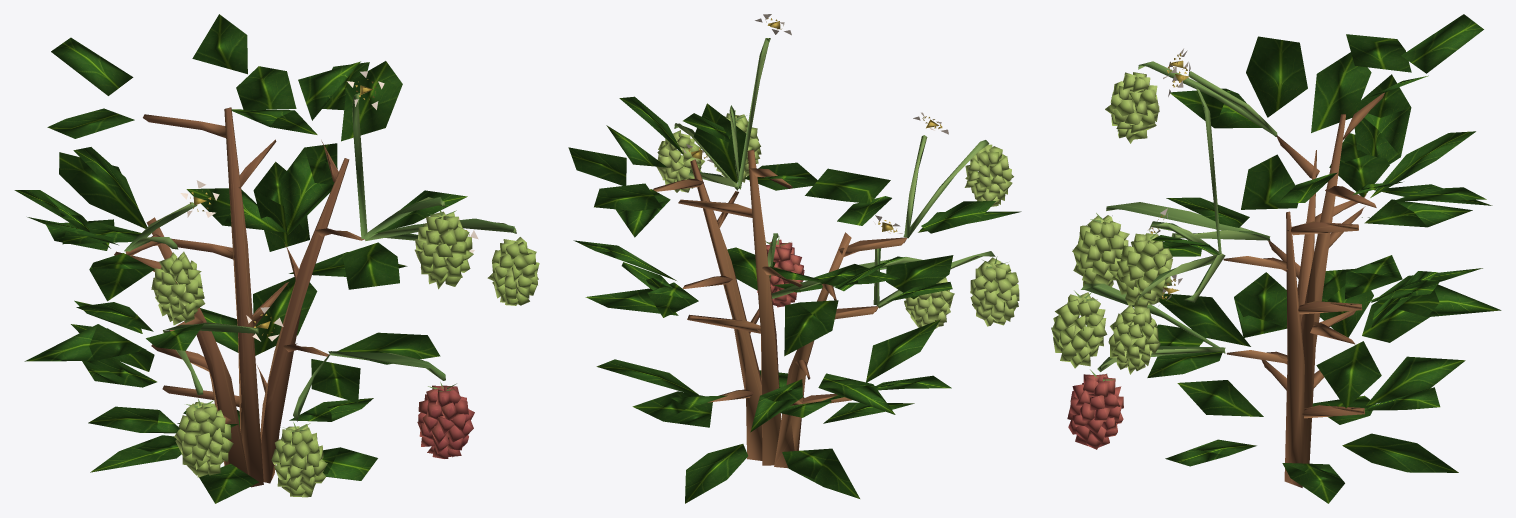
File: NP_Blackberry_Flowering_LOD1.fbx
3 renders of one model, left to right at view 1: azimuth 30°, elevation 25°; view 2: azimuth 150°, elevation 25°; view 3: azimuth 270°, elevation 25°, orthographic. The views are drawn at different scales.
Parts seen in each view (by area): view 1: NP_Blackberry_Flowering; view 2: NP_Blackberry_Flowering; view 3: NP_Blackberry_Flowering.
Part boxes in pixels (x1,y1,x2,y2): NP_Blackberry_Flowering: (14, 14, 539, 503); NP_Blackberry_Flowering: (568, 14, 1021, 503); NP_Blackberry_Flowering: (1051, 14, 1501, 503).
Size of the model in its own units: 91.52 by 89.3 by 82.78.
